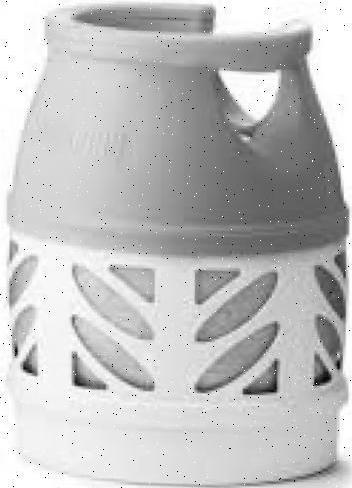cylinder: (1, 0, 352, 488)
